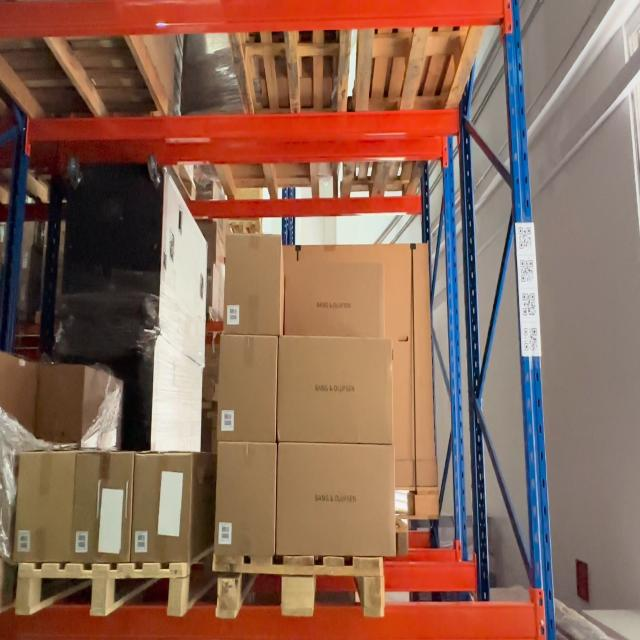box: (279, 448, 393, 554), (280, 340, 390, 442), (216, 442, 274, 554), (130, 456, 187, 565), (14, 451, 72, 558), (71, 453, 130, 558), (219, 336, 273, 438), (226, 237, 279, 330)
